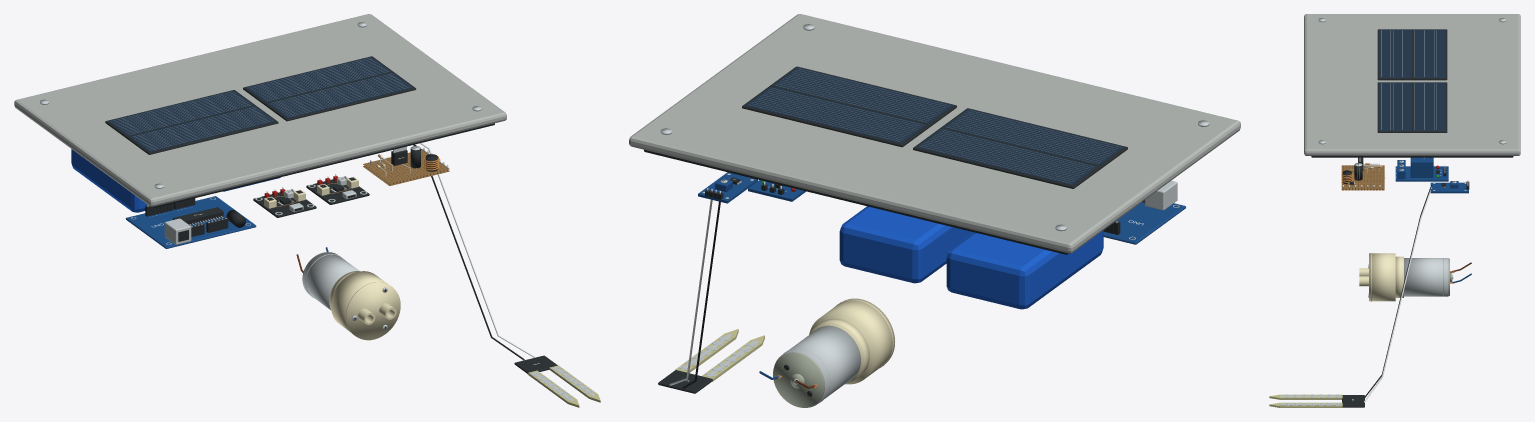
File: sylva-anatomy.glb
3 renders of one model, left to right at view 1: azimuth 30°, elevation 25°; view 2: azimuth 150°, elevation 25°; view 3: azimuth 270°, elevation 25°, orthographic. The views are drawn at different scales.
Visible parts, largest first — view 1: Anatomy / pv / Common solar cover, Anatomy / pv / Cell laminate, Anatomy / pv / Cell laminate.001, Anatomy / pump / Pump head, Anatomy / uno / Uno blue PCB, Anatomy / pump / Motor can, Anatomy / battery / Blue wrapped pack, Anatomy / boost / Perforated phenolic board, Anatomy / pv / Panel rim, Anatomy / pv / Panel rim.001, Anatomy / pv / Locating skirt, Anatomy / charger / HS P03 black PCB.001 (+1 smaller); view 2: Anatomy / pv / Common solar cover, Anatomy / pv / Cell laminate, Anatomy / pv / Cell laminate.001, Anatomy / battery / Blue wrapped pack, Anatomy / battery / Blue wrapped pack.001, Anatomy / pump / Motor can, Anatomy / pump / Pump head, Anatomy / pump / Rear cap, Anatomy / uno / Uno blue PCB, Anatomy / pv / Panel rim.001, Anatomy / pv / Panel rim, Anatomy / pv / Locating skirt (+4 smaller); view 3: Anatomy / pv / Common solar cover, Anatomy / pv / Cell laminate.001, Anatomy / pv / Cell laminate, Anatomy / pump / Motor can, Anatomy / pump / Pump head, Anatomy / boost / Perforated phenolic board, Anatomy / pv / Panel rim, Anatomy / relay / Blue relay case, Anatomy / pv / Panel rim.001, Anatomy / relay / Relay PCB, Anatomy / sensor / Probe cable B, Anatomy / pv / Locating skirt (+6 smaller).
Boxes of the visible parts, x1,y1,x2,y2 form: Anatomy / pv / Common solar cover: (14,14,506,206); Anatomy / pv / Cell laminate: (108,90,275,151); Anatomy / pv / Cell laminate.001: (246,57,412,118); Anatomy / pump / Pump head: (331,271,400,340); Anatomy / uno / Uno blue PCB: (125,196,256,248); Anatomy / pump / Motor can: (302,252,359,309); Anatomy / battery / Blue wrapped pack: (71,149,147,212); Anatomy / boost / Perforated phenolic board: (363,149,449,185); Anatomy / pv / Panel rim: (105,90,278,154); Anatomy / pv / Panel rim.001: (243,56,416,121); Anatomy / pv / Locating skirt: (153,123,494,207); Anatomy / charger / HS P03 black PCB.001: (306,176,369,204); Anatomy / pv / Common solar cover: (629,14,1240,253); Anatomy / pv / Cell laminate: (916,109,1124,185); Anatomy / pv / Cell laminate.001: (745,67,953,143); Anatomy / battery / Blue wrapped pack: (946,230,1103,309); Anatomy / battery / Blue wrapped pack.001: (839,206,973,283); Anatomy / pump / Motor can: (775,325,860,407); Anatomy / pump / Pump head: (809,298,894,384); Anatomy / pump / Rear cap: (773,352,824,407); Anatomy / uno / Uno blue PCB: (1103,202,1185,244); Anatomy / pv / Panel rim.001: (742,66,956,147); Anatomy / pv / Panel rim: (913,108,1127,188); Anatomy / pv / Locating skirt: (644,149,1068,254); Anatomy / pv / Common solar cover: (1304,14,1520,155); Anatomy / pv / Cell laminate.001: (1379,82,1445,130); Anatomy / pv / Cell laminate: (1379,29,1445,77); Anatomy / pump / Motor can: (1404,258,1448,296); Anatomy / pump / Pump head: (1369,253,1395,301); Anatomy / boost / Perforated phenolic board: (1341,165,1384,190); Anatomy / pv / Panel rim: (1377,29,1447,80); Anatomy / relay / Blue relay case: (1410,157,1433,177); Anatomy / pv / Panel rim.001: (1377,82,1447,132); Anatomy / relay / Relay PCB: (1395,166,1448,181); Anatomy / sensor / Probe cable B: (1364,187,1431,402); Anatomy / pv / Locating skirt: (1311,156,1513,157).
Bounding box in the file's own units: 326 × 211 × 209.
